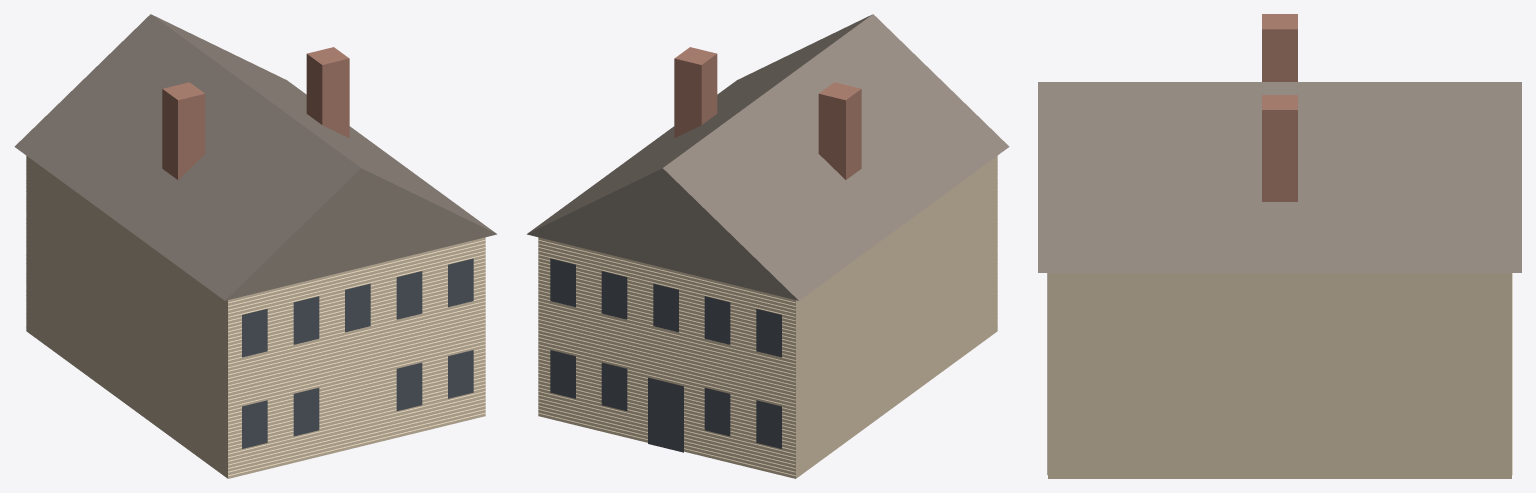
The model's file is recon_1835_west_035__inferred_1835.glb.
3 renders of one model, left to right at view 1: azimuth 30°, elevation 25°; view 2: azimuth 150°, elevation 25°; view 3: azimuth 270°, elevation 25°, orthographic. The views are drawn at different scales.
Parts seen in each view (by area): view 1: recon_1835_west_035__inferred_1835; view 2: recon_1835_west_035__inferred_1835; view 3: recon_1835_west_035__inferred_1835.
Part boxes in pixels (x1,y1,x2,y2): recon_1835_west_035__inferred_1835: [14, 14, 496, 478]; recon_1835_west_035__inferred_1835: [527, 14, 1009, 478]; recon_1835_west_035__inferred_1835: [1038, 14, 1521, 478].
Bounding box in the file's own units: 9.03 × 9.5 × 12.08.
